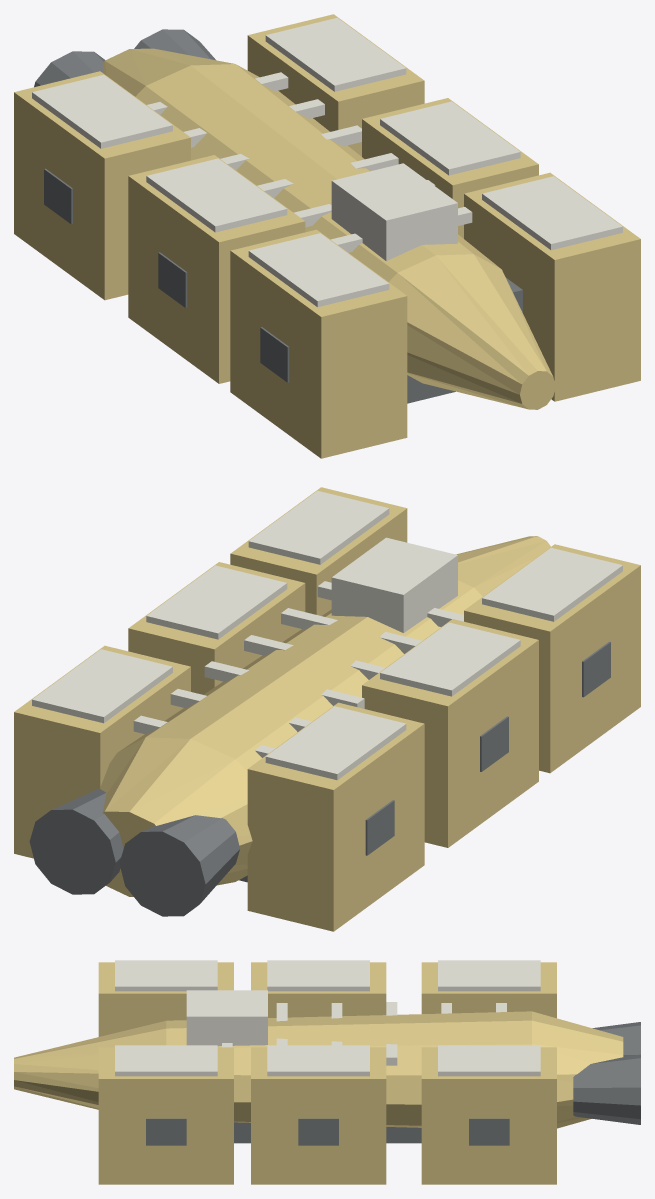
3 renders of one model, top to bottom at view 1: azimuth 30°, elevation 25°; view 2: azimuth 150°, elevation 25°; view 3: azimuth 270°, elevation 25°, orthographic. The views are drawn at different scales.
Size of the model in its own units: 3.74 by 1.82 by 8.43.
